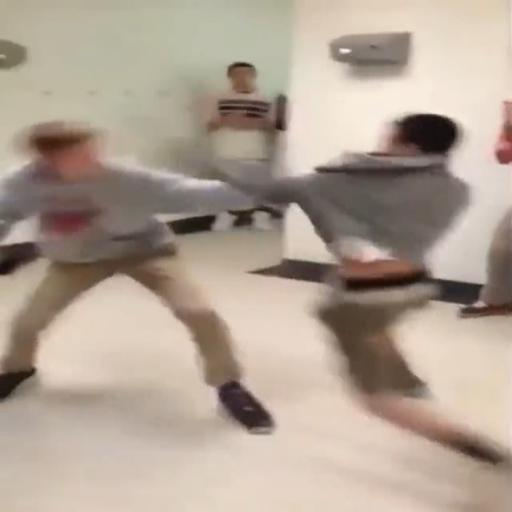violencia: (0, 107, 512, 468)
